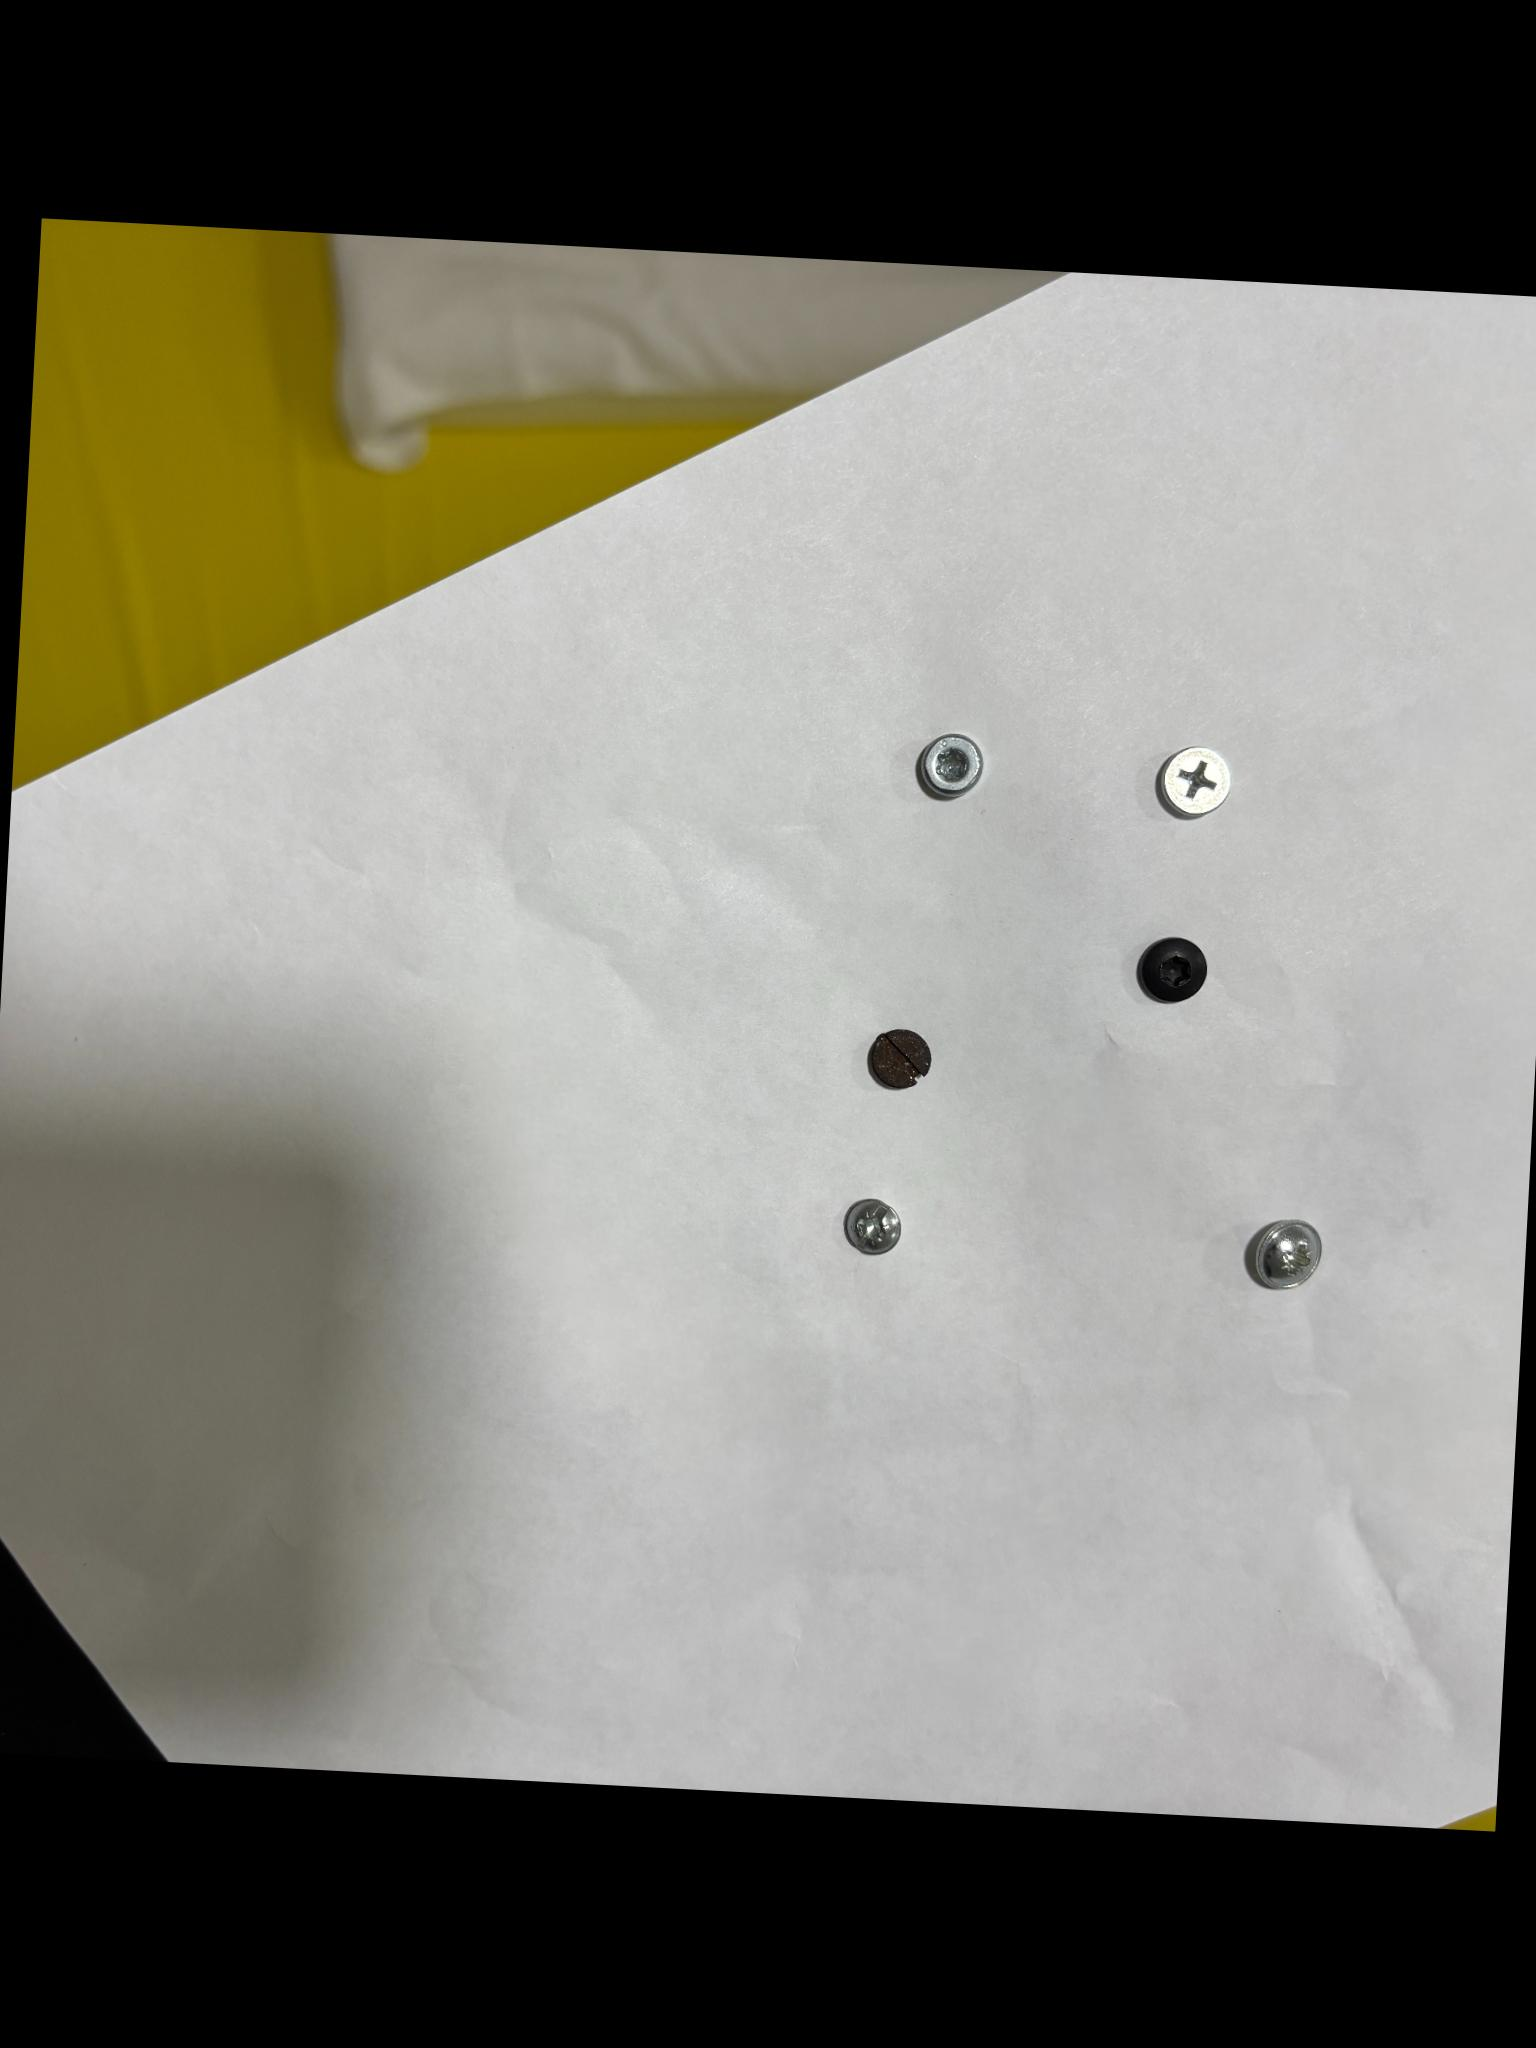H: (1137, 935, 1207, 1001)
PH: (1247, 1219, 1323, 1288), (1158, 745, 1231, 816)
PZ: (845, 1198, 902, 1255)
SL: (870, 1029, 933, 1089)
T: (918, 734, 983, 797)
